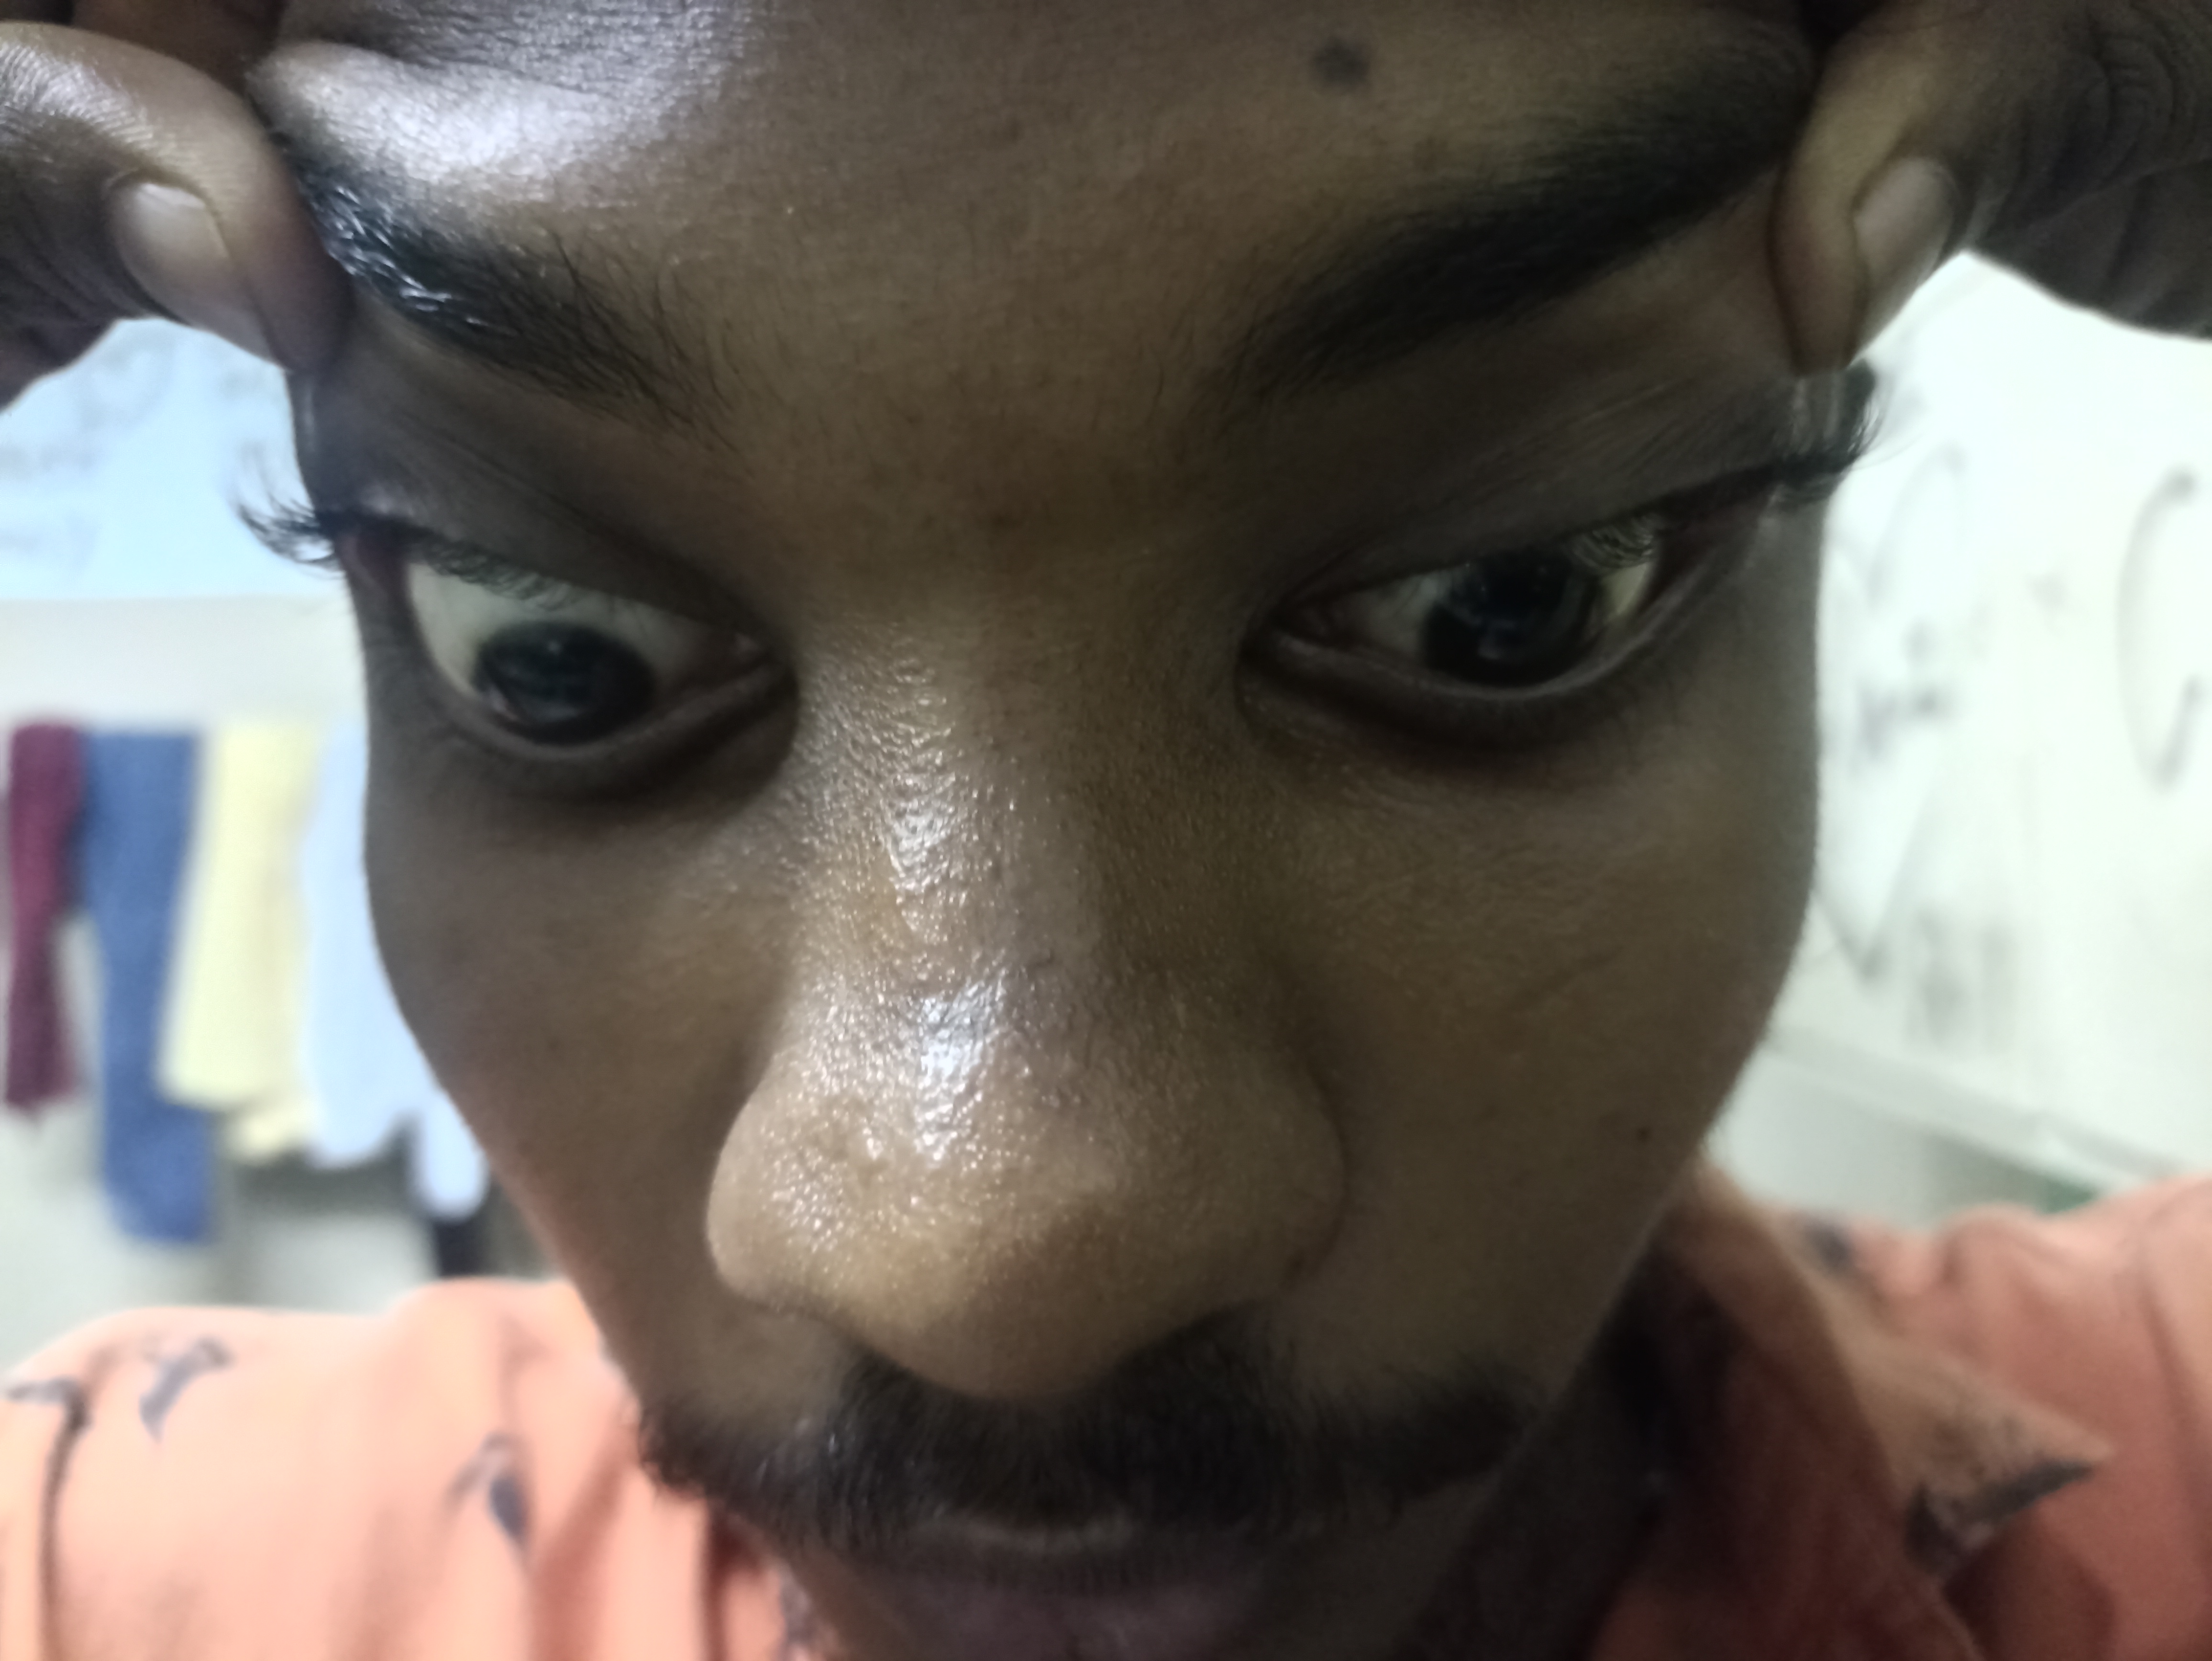EYE DOWN: (1094, 326, 2001, 1005), (155, 338, 1003, 982)
